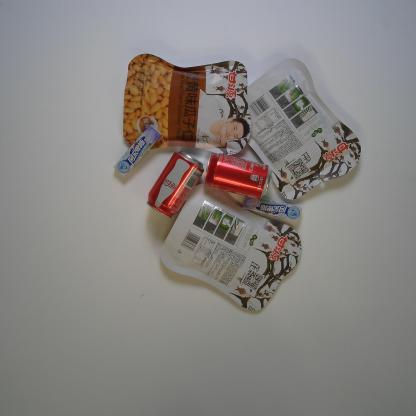Candy: (113, 124, 163, 176), (242, 194, 301, 220)
Dried Fruit: (159, 183, 302, 312), (235, 57, 361, 201), (122, 52, 252, 156)
Drink: (146, 150, 205, 219), (202, 153, 272, 200)
